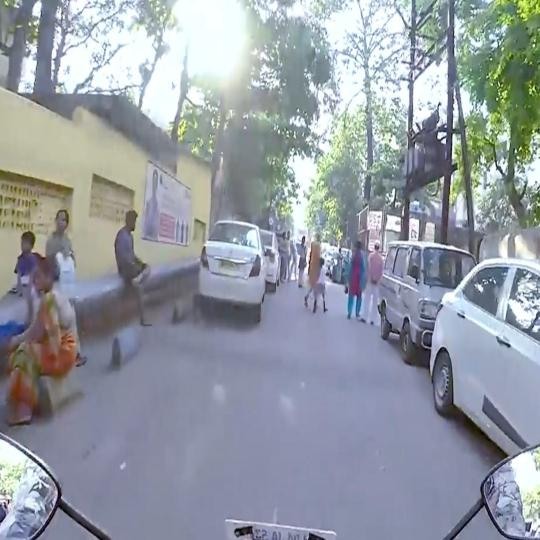Speed Bump: (146, 328, 380, 382)
